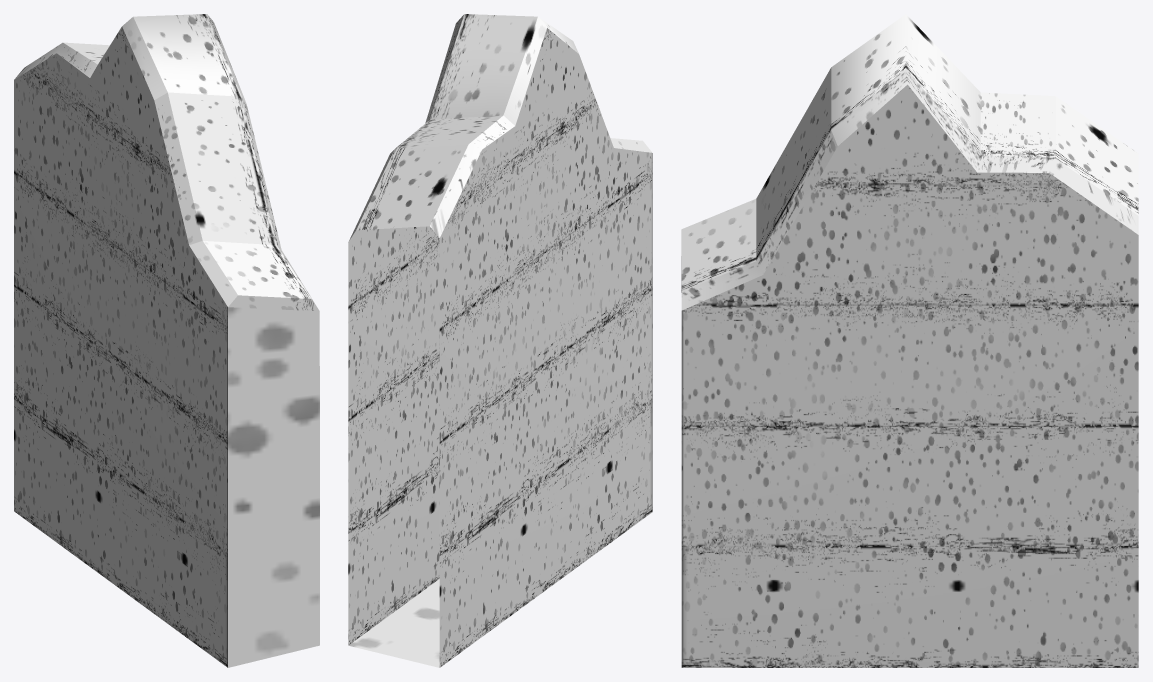
The model's file is Wall_Spacer_Cardinal_backing_02_Damaged.fbx.
3 renders of one model, left to right at view 1: azimuth 30°, elevation 25°; view 2: azimuth 150°, elevation 25°; view 3: azimuth 270°, elevation 25°, orthographic. The views are drawn at different scales.
Visible parts, largest first — view 1: Wall_Spacer_Cardinal_backing_02_Damaged; view 2: Wall_Spacer_Cardinal_backing_02_Damaged; view 3: Wall_Spacer_Cardinal_backing_02_Damaged.
Boxes of the visible parts, x1,y1,x2,y2 form: Wall_Spacer_Cardinal_backing_02_Damaged: (14,14,319,667); Wall_Spacer_Cardinal_backing_02_Damaged: (348,14,652,667); Wall_Spacer_Cardinal_backing_02_Damaged: (681,14,1138,667).
Bounding box in the file's own units: 0.25 × 1.49 × 1.01.
